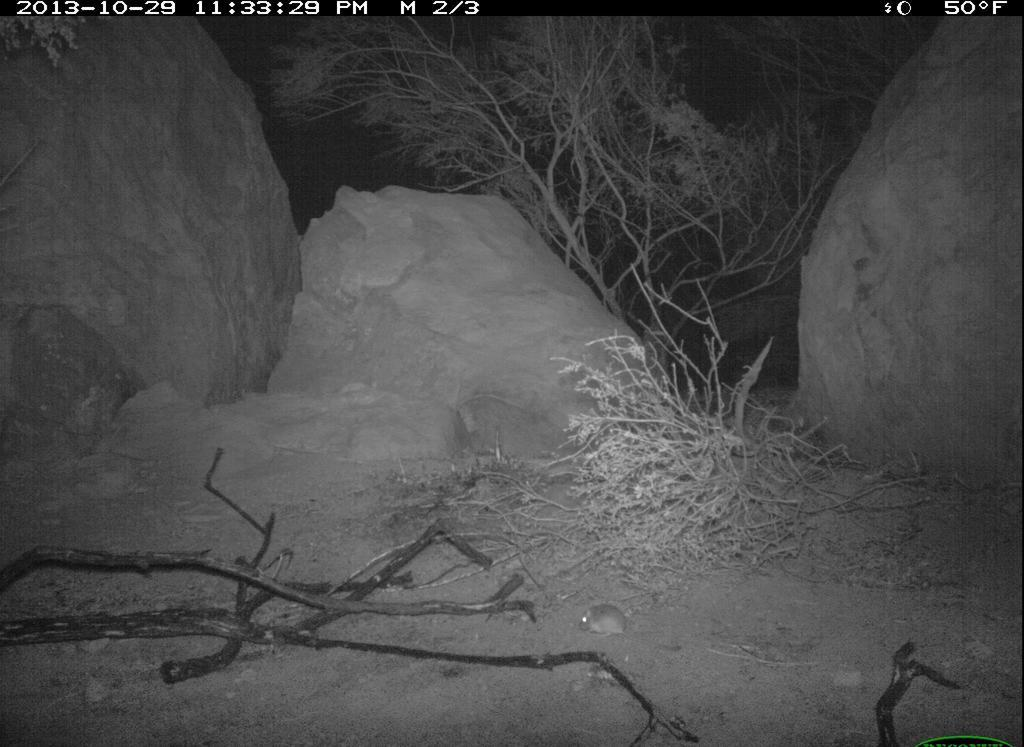rodent: (573, 595, 636, 645)
